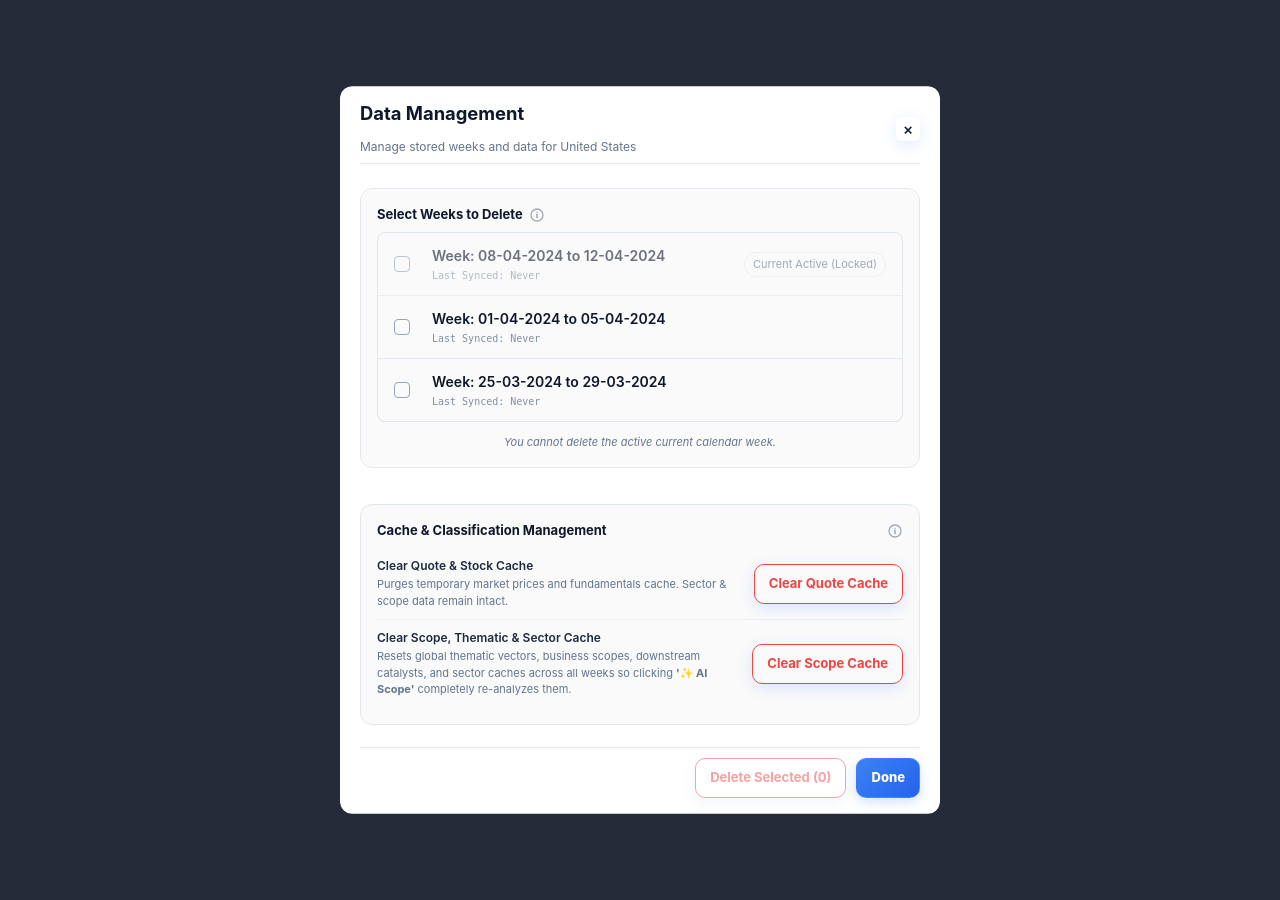
Test: DataManagementModal Components › clears quote and fundamentals cache when Clear Quote Cache button is clicked
The width and height of the screenshot is (1280, 900).
Click the button "Clear Quote Cache" at (828,584), box [754,564,903,604]
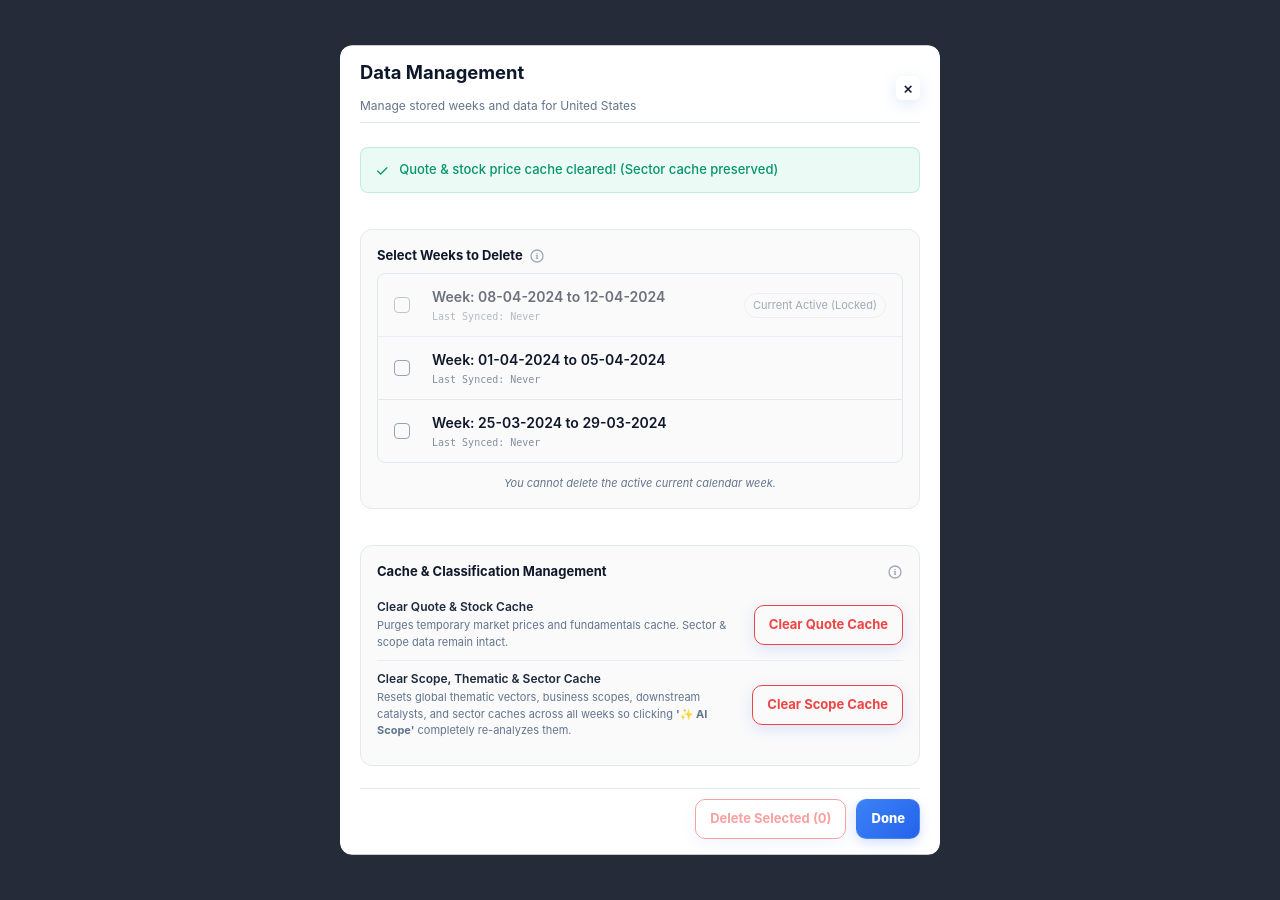
Check: the text "Quote & stock price cache cleared! (Sector cache preserved)" is shown, box [399,160,778,180]
